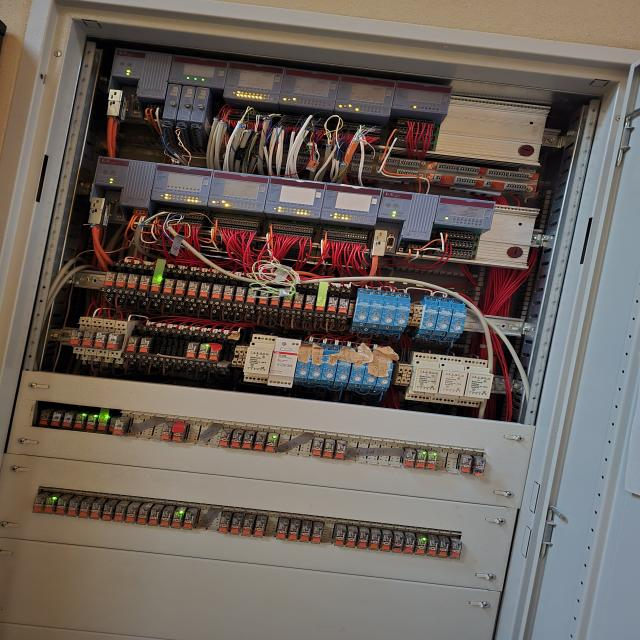Dimmer: (454, 358, 494, 408), (430, 355, 468, 405), (405, 352, 442, 402), (242, 334, 277, 384), (267, 337, 301, 388), (427, 297, 453, 342), (441, 298, 467, 342), (387, 292, 411, 337), (361, 290, 385, 334), (415, 296, 439, 340), (350, 288, 372, 333), (346, 346, 368, 390), (375, 291, 397, 335), (320, 344, 341, 386), (307, 343, 328, 384), (375, 349, 395, 392), (333, 345, 353, 387), (294, 342, 314, 383), (361, 348, 380, 390)
Relais: (298, 524, 313, 543), (333, 529, 348, 547), (218, 515, 232, 534), (229, 516, 243, 535), (241, 517, 255, 536), (208, 344, 222, 362), (112, 419, 126, 437), (253, 434, 267, 452), (264, 435, 278, 453), (275, 521, 289, 539), (287, 523, 301, 541), (356, 531, 370, 549), (253, 519, 266, 538), (126, 274, 140, 291), (138, 275, 152, 292), (162, 278, 176, 295), (198, 282, 212, 299), (105, 333, 119, 350), (125, 336, 139, 353), (171, 425, 185, 442), (32, 496, 46, 513), (159, 510, 173, 527), (219, 430, 232, 448), (311, 439, 324, 457), (183, 512, 196, 530), (380, 534, 393, 552), (415, 538, 428, 556), (449, 542, 462, 560), (114, 273, 129, 288), (174, 280, 188, 296), (234, 287, 248, 303), (303, 295, 317, 311), (138, 338, 152, 354), (197, 344, 211, 360), (187, 281, 200, 298), (160, 424, 173, 441), (230, 432, 243, 449), (241, 433, 254, 450), (44, 497, 57, 514), (55, 498, 68, 515), (66, 500, 79, 517), (78, 501, 91, 518), (137, 507, 150, 524), (345, 531, 358, 548), (368, 533, 381, 550), (392, 536, 405, 553), (403, 537, 416, 554), (437, 541, 450, 558), (460, 456, 472, 474), (311, 526, 323, 544), (150, 277, 163, 293), (211, 284, 224, 300), (69, 329, 82, 345), (81, 331, 94, 347), (94, 332, 107, 348), (185, 343, 198, 359), (61, 413, 74, 429), (114, 505, 127, 521), (125, 506, 138, 522), (148, 509, 161, 525), (171, 512, 184, 528), (258, 289, 270, 306), (270, 290, 282, 307), (282, 292, 294, 309), (39, 409, 51, 426), (323, 441, 335, 458), (334, 442, 346, 459), (404, 451, 416, 468), (415, 452, 427, 469), (426, 453, 438, 470), (90, 502, 102, 519), (427, 540, 439, 557), (104, 271, 117, 286), (222, 286, 235, 301), (246, 288, 258, 304), (337, 299, 349, 315), (97, 416, 109, 432), (102, 504, 114, 520), (474, 458, 485, 475), (327, 298, 339, 313), (293, 294, 304, 310), (315, 297, 326, 313), (51, 411, 62, 426), (74, 414, 85, 429), (86, 415, 97, 430), (109, 417, 116, 432)
SPS-System -Steuerungskomponente-: (320, 182, 383, 226), (150, 163, 214, 206), (223, 60, 286, 103), (263, 176, 327, 218), (334, 74, 397, 116), (207, 170, 270, 212), (278, 67, 340, 109), (95, 155, 158, 191), (378, 189, 441, 224), (434, 195, 497, 229), (392, 80, 453, 115), (168, 55, 230, 87), (112, 49, 172, 81)
Verbinder: (394, 364, 412, 386), (232, 345, 249, 368), (407, 304, 423, 327)
